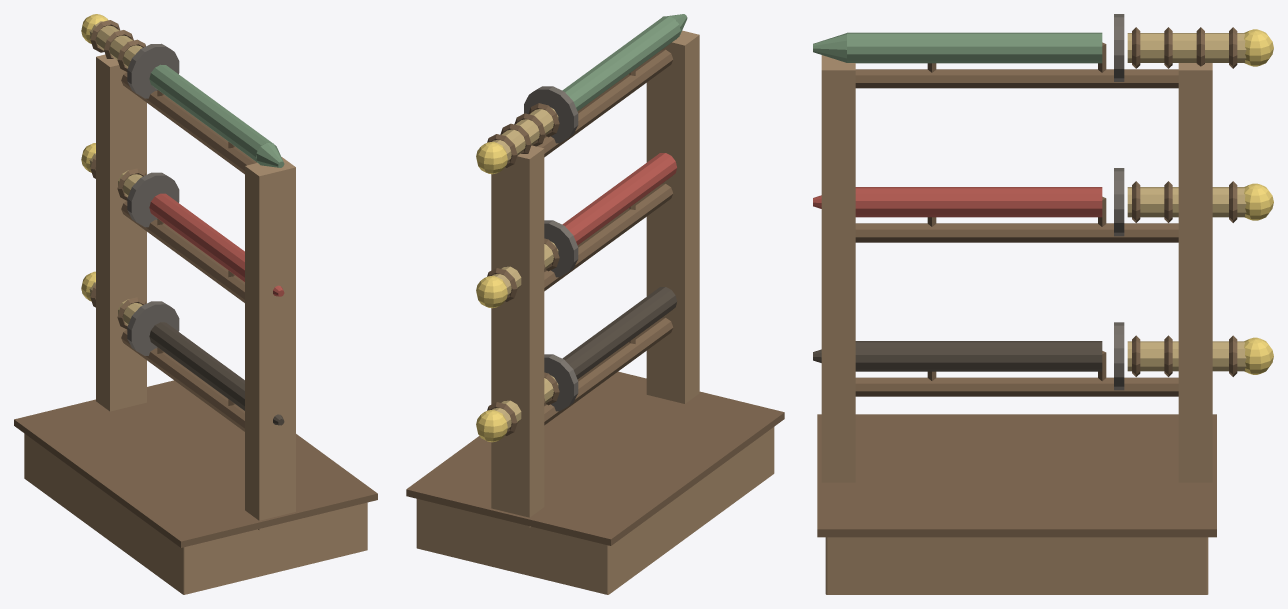
Rendered from katana_rack.glb.
The picture shows the model from 3 angles, left to right: view 1: azimuth 30°, elevation 25°; view 2: azimuth 150°, elevation 25°; view 3: azimuth 270°, elevation 25°; orthographic projection. The views are drawn at different scales.
Visible parts, largest first — view 1: katana_rack; view 2: katana_rack; view 3: katana_rack.
Part boxes in pixels (x1,y1,x2,y2): katana_rack: (14,14,377,594); katana_rack: (406,14,784,594); katana_rack: (813,14,1273,594).
Bounding box in the file's own units: 0.32 × 0.68 × 0.542.
